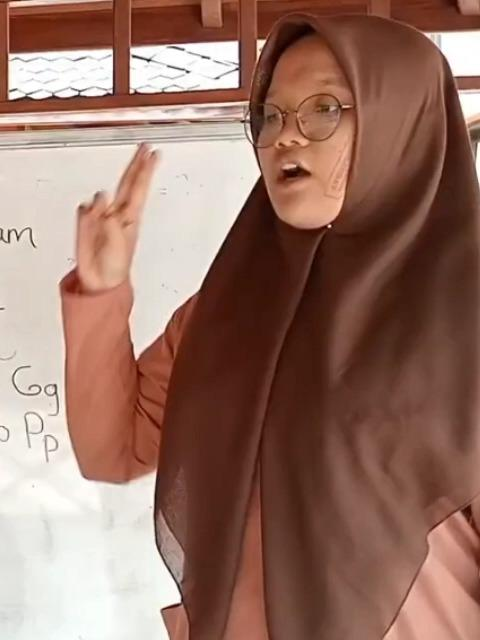U: (72, 136, 164, 284)
